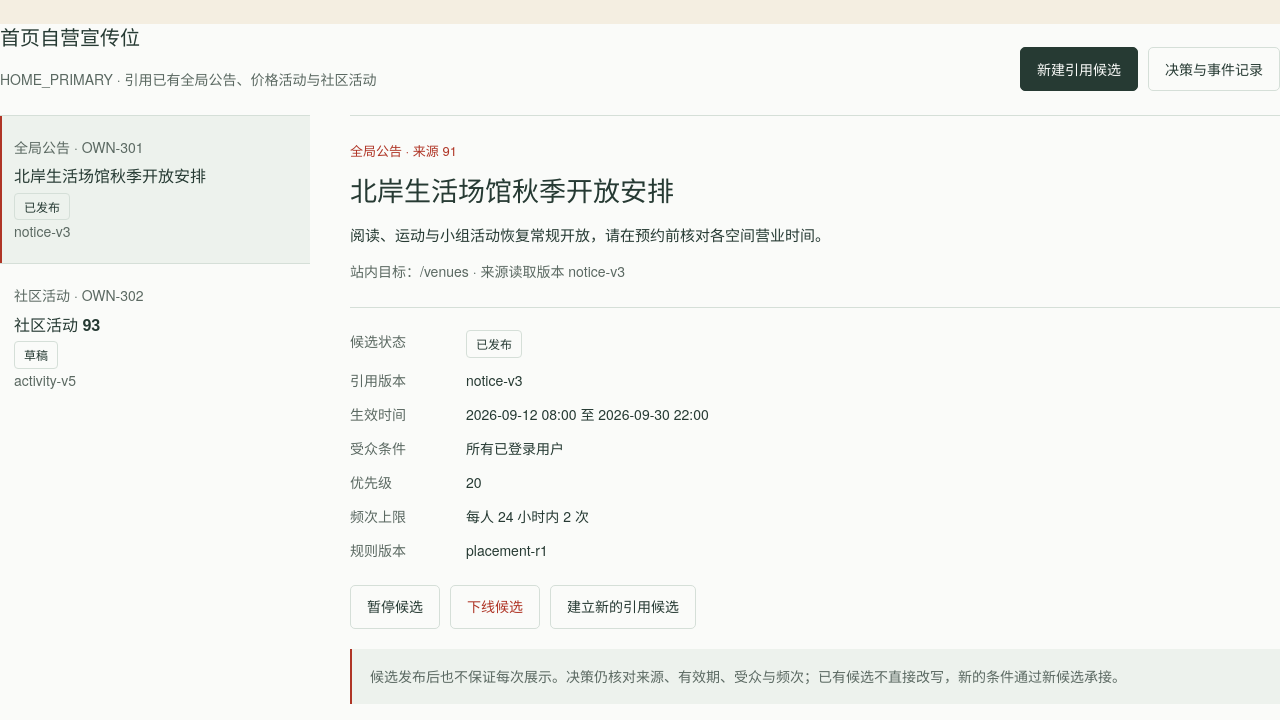
自营宣传面（B5-G2/G3/G4 一比一重建） › 审计子视图展示决策表与事件表（仅 audit 叶可达）
This screenshot has width=1280, height=720.
Click the button with test id "pl-open-audit".
click(1214, 69)  # box [1148,47,1279,91]
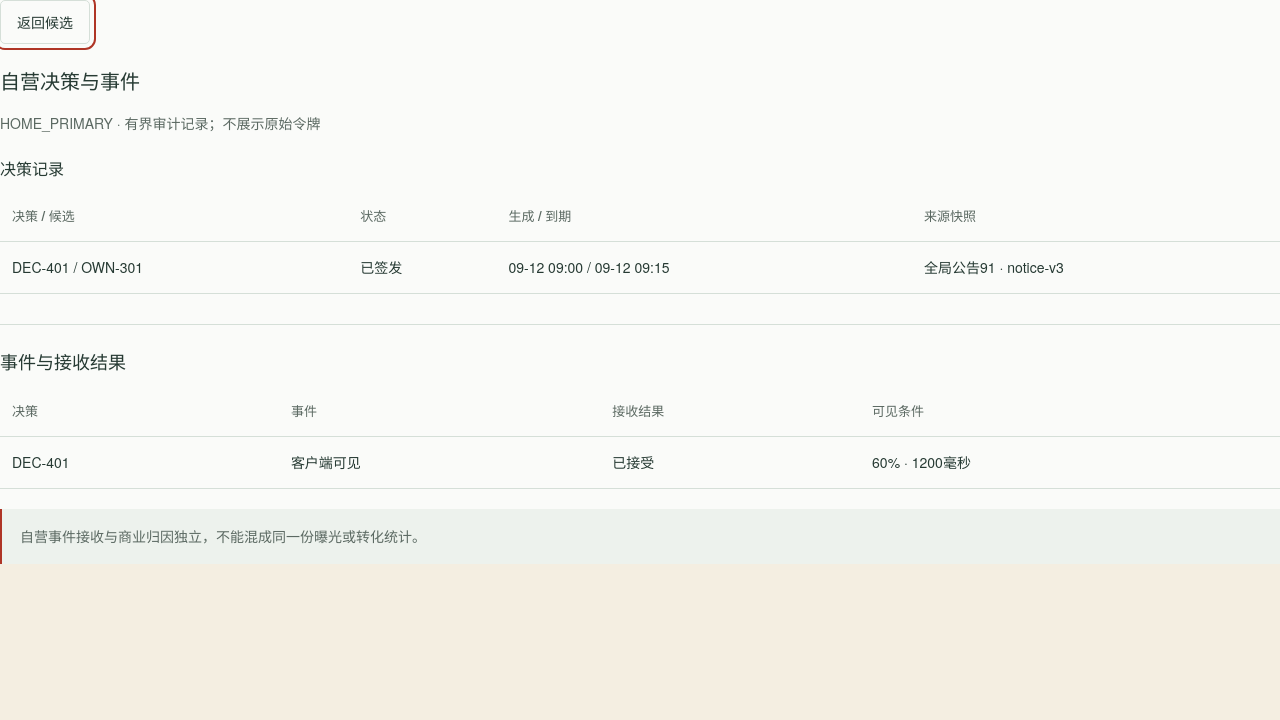
Result: the text "自营决策与事件" is shown at [0,71,140,93]
Result: the text "DEC-401 / OWN-301" is shown at [0,241,348,294]
Result: the text "已签发" is shown at [348,241,496,294]
